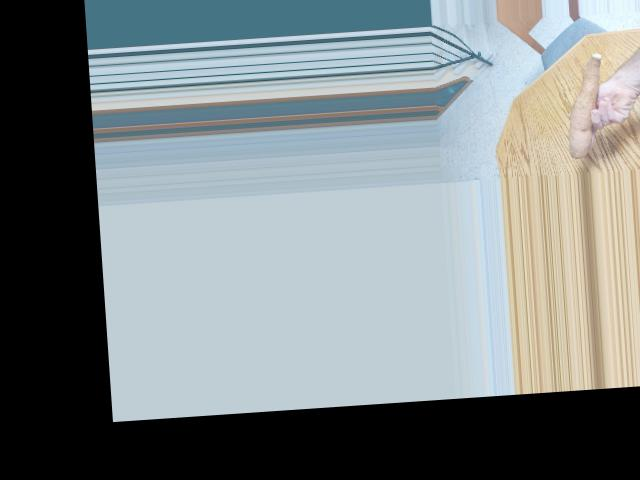sweet_potato: (559, 51, 612, 156)
